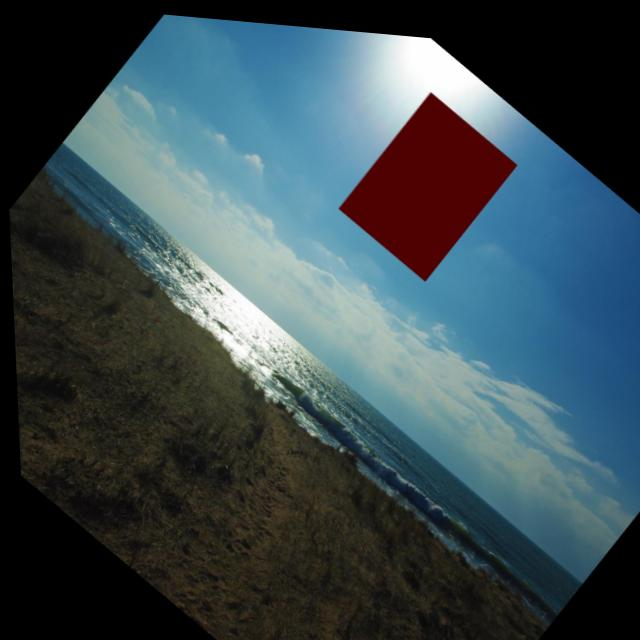RedSquare: (322, 66, 532, 294)
